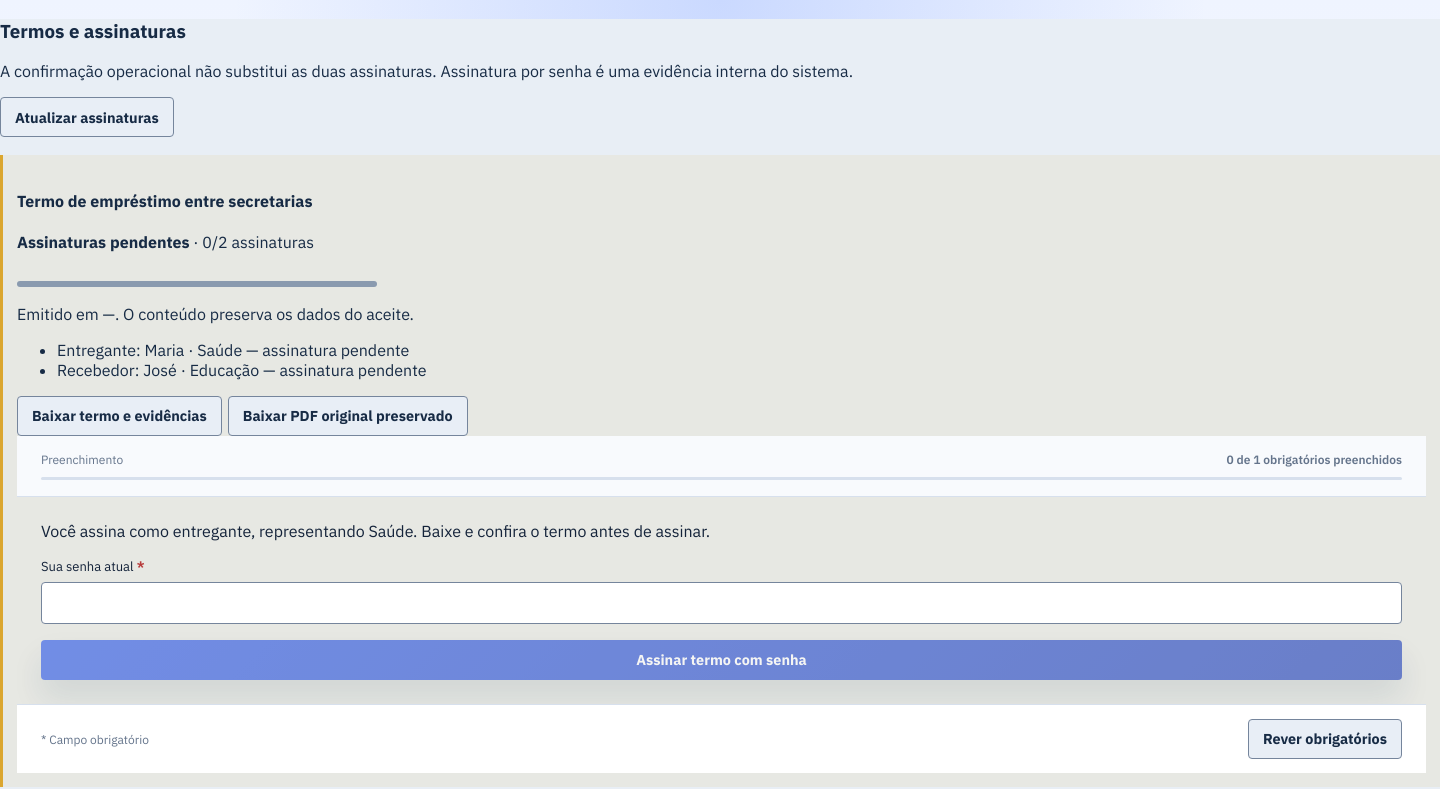
Test: requires reviewing download, preserves original and signs with entered password only once
Type "password-123" into the password field labelled "Sua senha atual" at (722, 603), box top-left (41, 582), bottom-right (1402, 624)
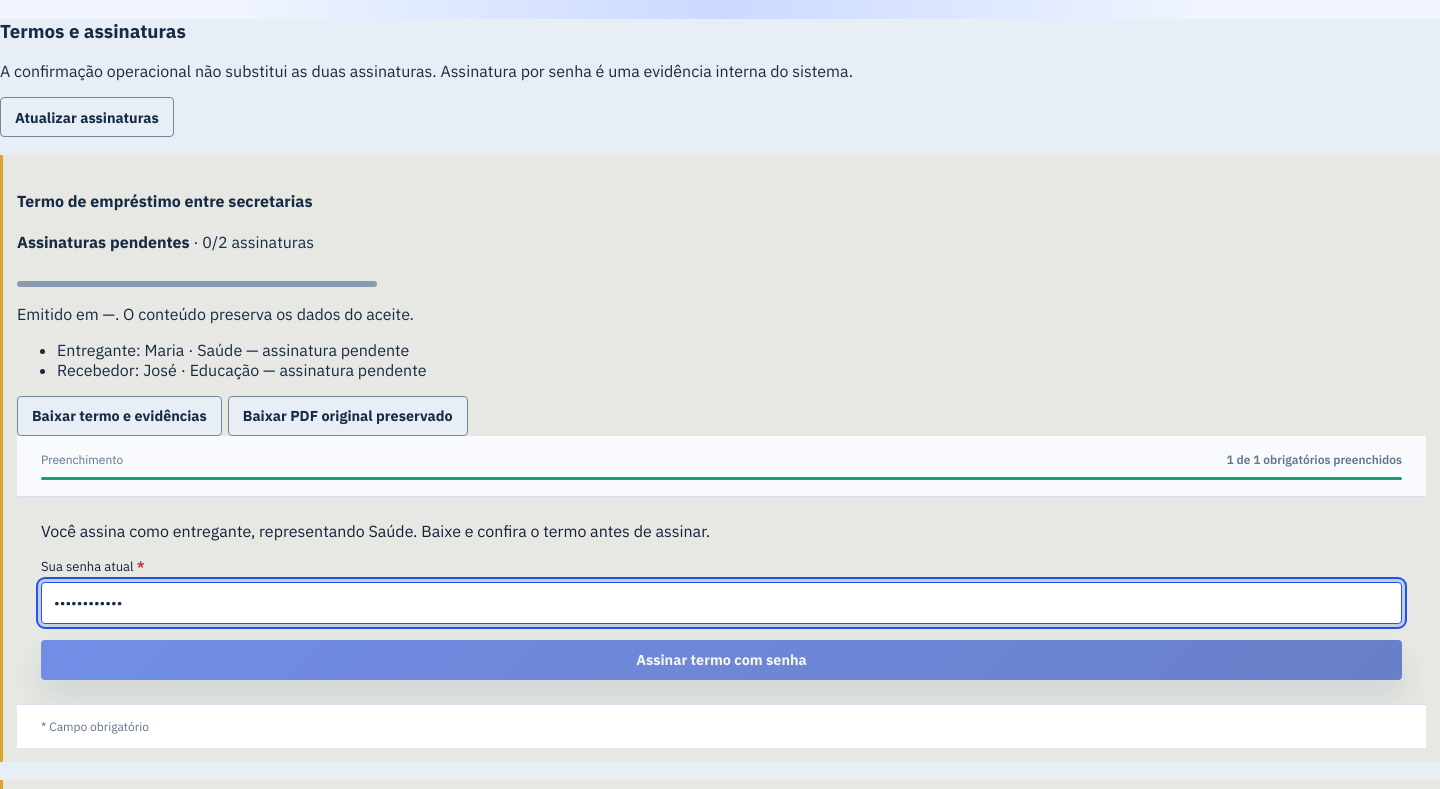
Expected: the button "Assinar termo com senha" is disabled, top-left (41, 640), bottom-right (1402, 680)
Click the button "Baixar PDF original preservado" at (348, 416), box top-left (228, 396), bottom-right (468, 436)
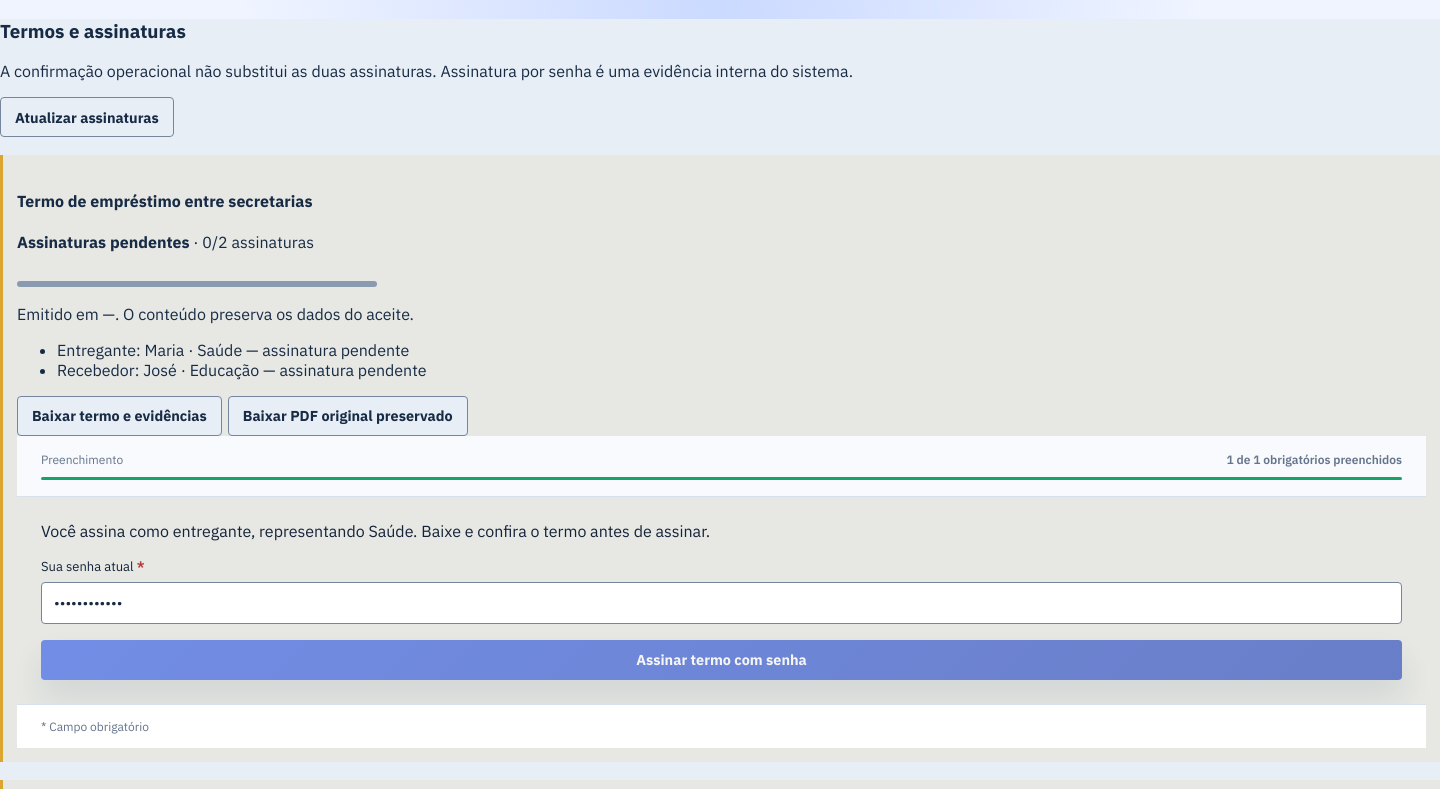
Expected: the button "Assinar termo com senha" is disabled, top-left (41, 640), bottom-right (1402, 680)
Click the button "Baixar termo e evidências" at (119, 416), box top-left (17, 396), bottom-right (222, 436)
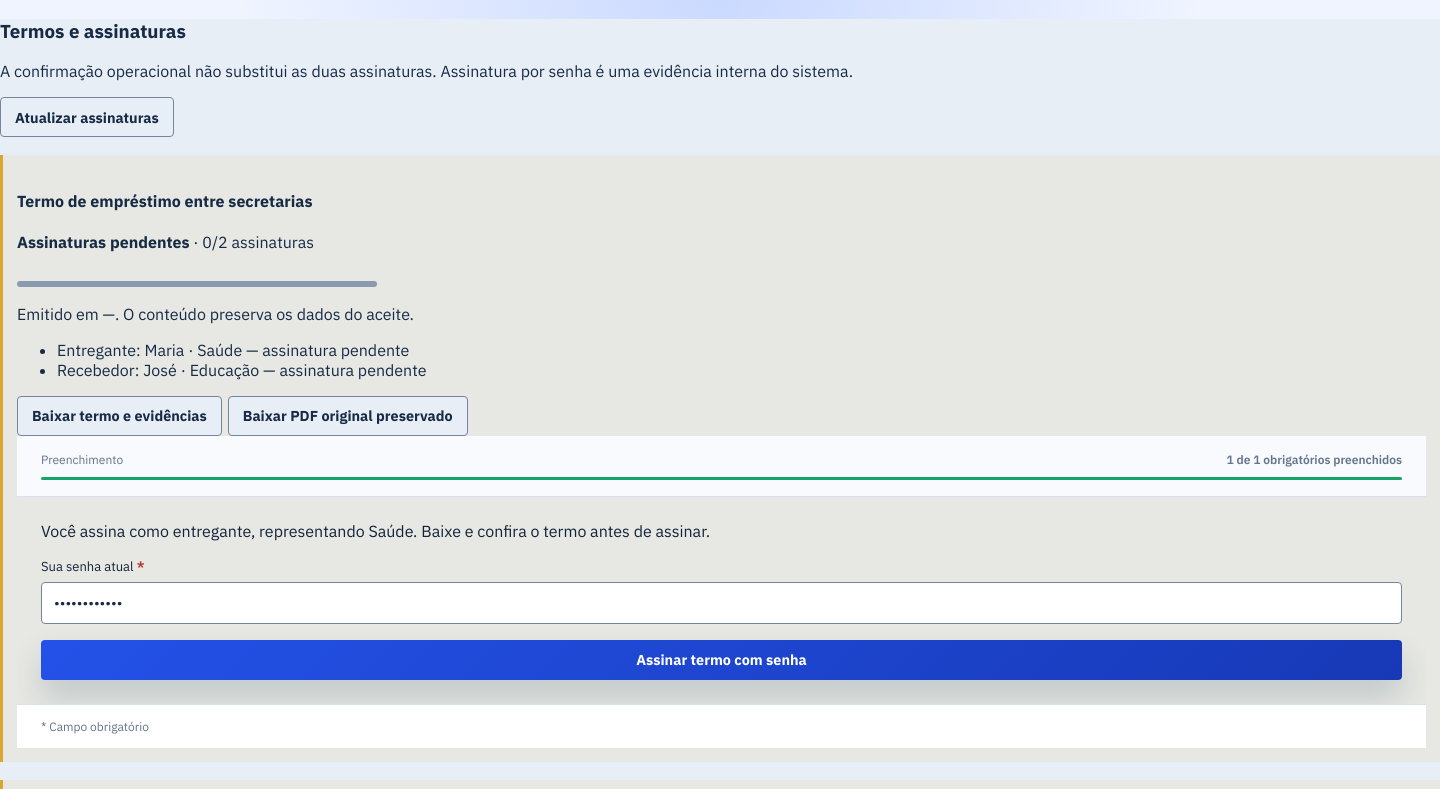
Submit the form named "Sua senha atual", box top-left (17, 436), bottom-right (1426, 748)
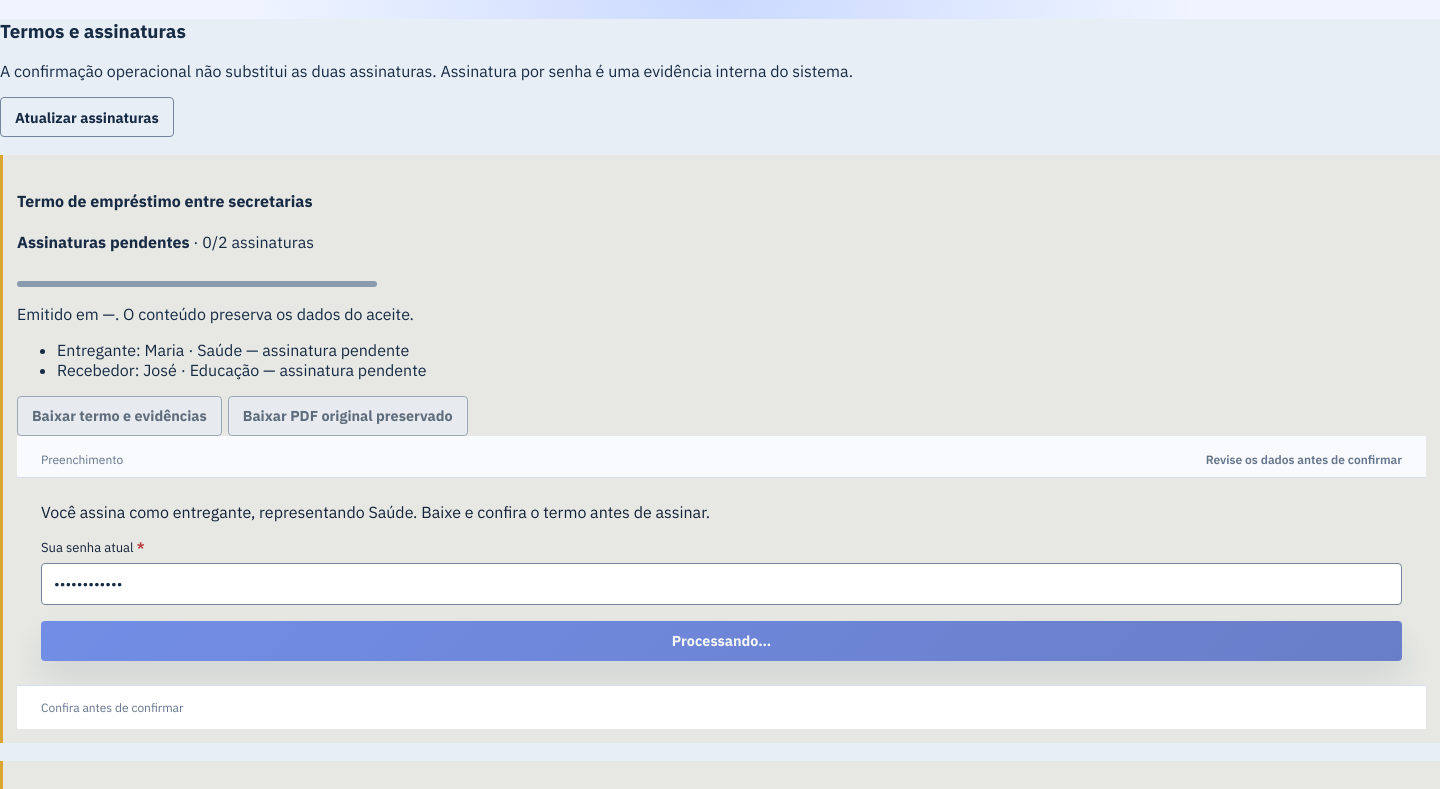
Submit the form named "Sua senha atual", box top-left (17, 436), bottom-right (1426, 729)
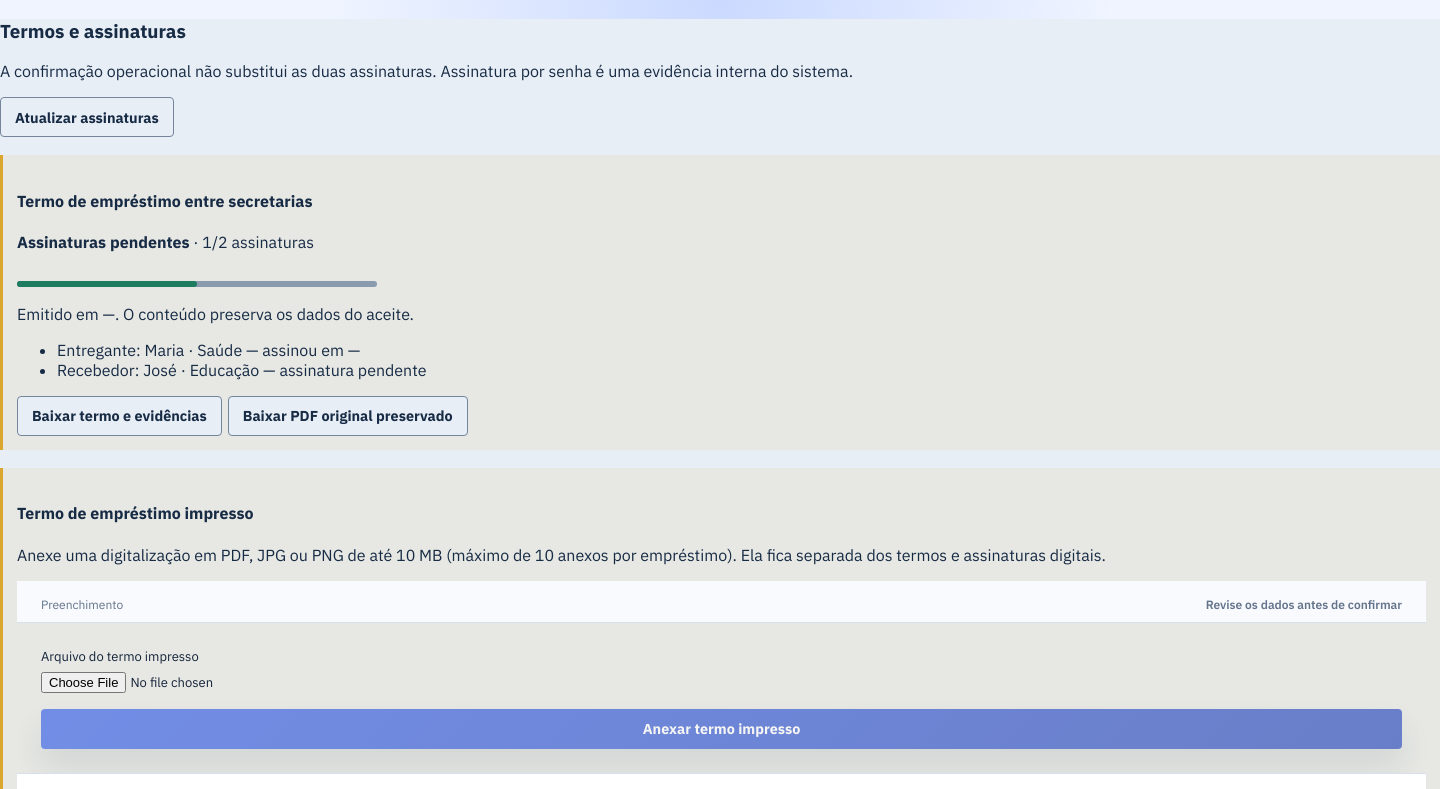
Now the field labelled "Sua senha atual" is gone
Now the text "Assinaturas pendentes · 1/2 assinaturas" is shown, box top-left (17, 232), bottom-right (314, 252)
